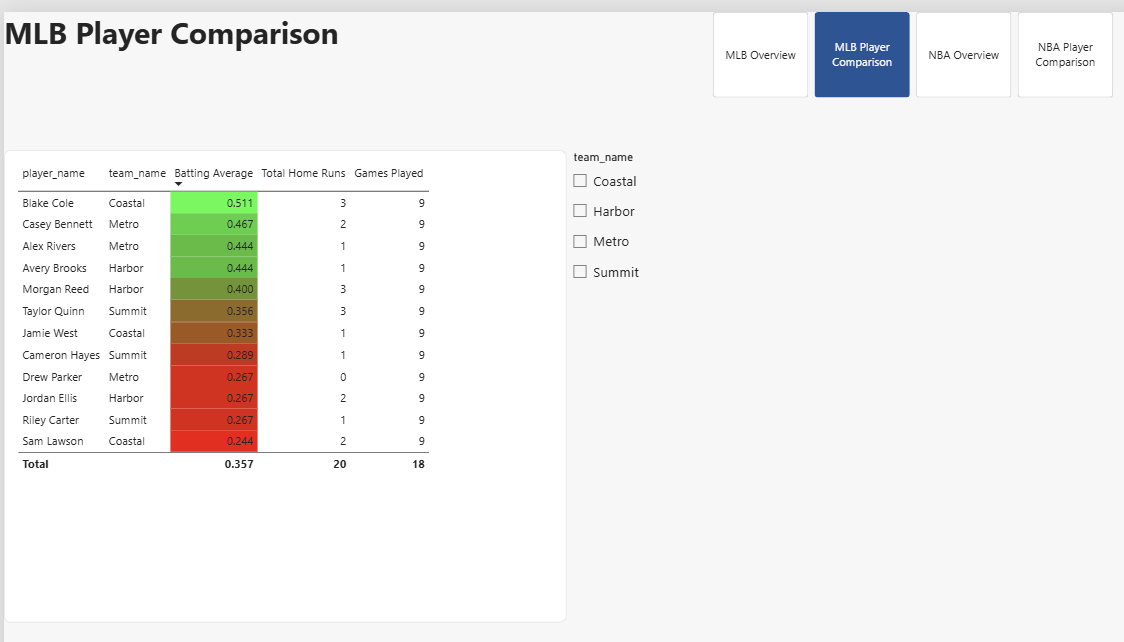

The dashboard page shown, as its layout file describes it:
{"tool":"powerbi","page":{"name":"MLB Player Comparison","canvas":[1920,1080],"ordinal":1},"visuals":[{"type":"tableEx","fields":{"Values":["public mlb_game_log.player_name","public mlb_game_log.team_name","public mlb_game_log.Batting Average","public mlb_game_log.Total Home Runs","public mlb_game_log.Games Played"]},"box":[0,173.7,701.8,589.5],"z":0},{"type":"slicer","fields":{"Values":["public mlb_game_log.team_name"]},"box":[701.8,173.7,701.8,589.5],"z":1},{"type":"textbox","box":[0,0,701.8,173.7],"z":2},{"type":"pageNavigator","box":[884.2,0,503.5,107],"z":3}]}

Visuals, with their boxes in screenshot pixels (x1, y1, x2, y2), scaled from the page's 1920x1080 canvas onto the 1124x642 screenshot:
tableEx - public mlb_game_log.player_name x public mlb_game_log.team_name: 0, 103, 411, 454
slicer - public mlb_game_log.team_name: 411, 103, 822, 454
textbox: 0, 0, 411, 103
pageNavigator: 518, 0, 812, 64
